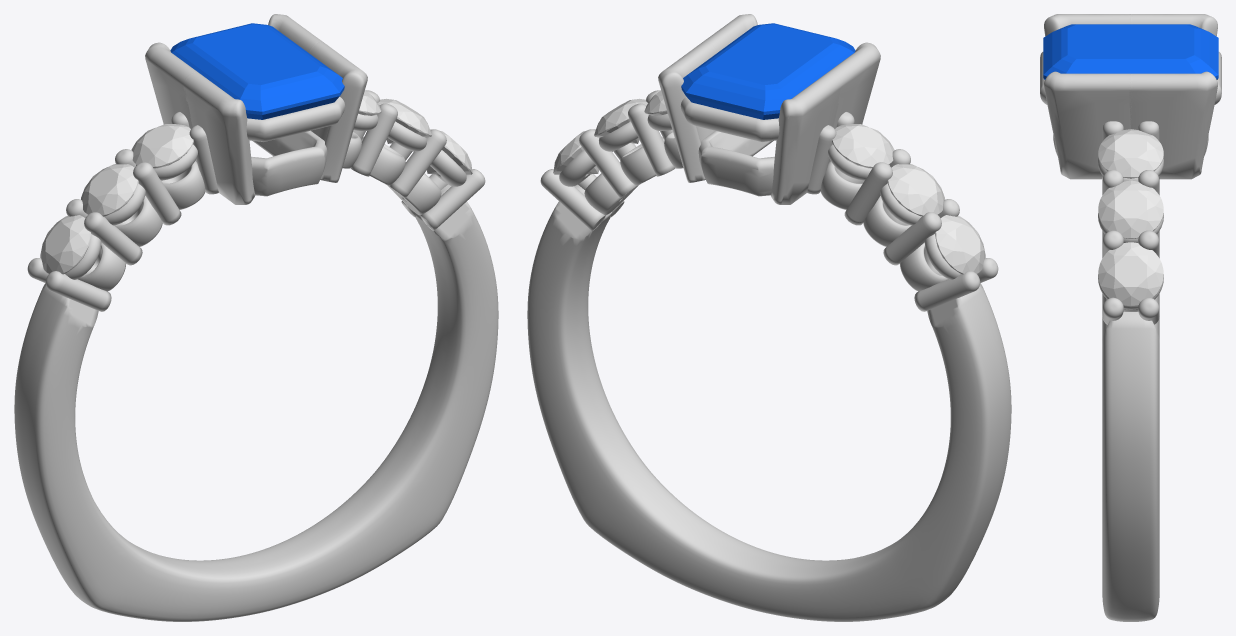
File: bluesapphire-emerald-platinum-halfmoonbezel-europeanshank-7stone.glb
The picture shows the model from 3 angles, left to right: view 1: azimuth 30°, elevation 25°; view 2: azimuth 150°, elevation 25°; view 3: azimuth 270°, elevation 25°; orthographic projection.
Visible parts, largest first — view 1: metal.003, stone.002, side.012, side.013, side.014, side.016; view 2: metal.003, stone.002, side.012, side.013, side.014, side.016; view 3: metal.003, stone.002, side.017, side.016, side.015.
Part boxes in pixels (box(x1,y1,x2,y2)): metal.003: box(14, 14, 498, 621); stone.002: box(170, 23, 344, 119); side.012: box(40, 215, 90, 274); side.013: box(81, 164, 138, 216); side.014: box(131, 124, 193, 168); side.016: box(378, 98, 431, 143); metal.003: box(527, 14, 1011, 621); stone.002: box(681, 23, 855, 119); side.012: box(935, 215, 985, 274); side.013: box(887, 164, 944, 216); side.014: box(832, 124, 894, 168); side.016: box(594, 98, 647, 143); metal.003: box(1040, 14, 1221, 621); stone.002: box(1043, 24, 1218, 79); side.017: box(1098, 242, 1163, 305); side.016: box(1098, 180, 1163, 238); side.015: box(1098, 129, 1163, 178).
Bounding box in the file's own units: 20.11 × 22.74 × 6.94.
